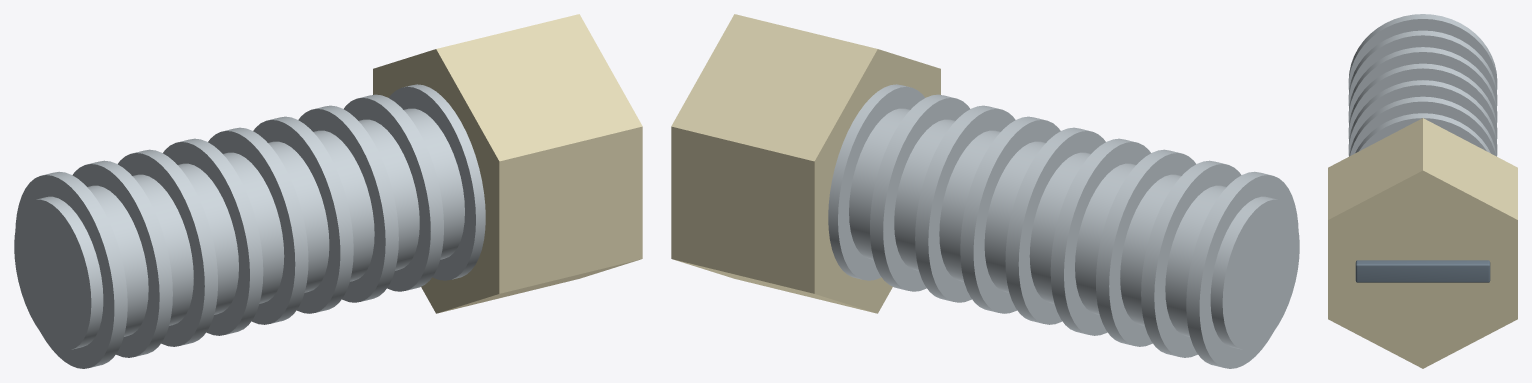
The model's file is engine_clamp_before.glb.
The picture shows the model from 3 angles, left to right: view 1: azimuth 30°, elevation 25°; view 2: azimuth 150°, elevation 25°; view 3: azimuth 270°, elevation 25°; orthographic projection. The views are drawn at different scales.
Visible parts, largest first — view 1: CLAMP/0010_hex_head, CLAMP/0000_threaded_shank, CLAMP/0001_thread, CLAMP/0006_thread, CLAMP/0008_thread, CLAMP/0007_thread, CLAMP/0003_thread, CLAMP/0004_thread, CLAMP/0005_thread, CLAMP/0002_thread, CLAMP/0009_thread; view 2: CLAMP/0010_hex_head, CLAMP/0000_threaded_shank, CLAMP/0001_thread, CLAMP/0006_thread, CLAMP/0008_thread, CLAMP/0007_thread, CLAMP/0003_thread, CLAMP/0004_thread, CLAMP/0005_thread, CLAMP/0002_thread, CLAMP/0009_thread; view 3: CLAMP/0010_hex_head, CLAMP/0011_driver_slot, CLAMP/0005_thread, CLAMP/0001_thread, CLAMP/0002_thread, CLAMP/0003_thread, CLAMP/0004_thread, CLAMP/0006_thread, CLAMP/0007_thread.
Boxes of the visible parts, <box> form: CLAMP/0010_hex_head: <box>373,14,642,313</box>; CLAMP/0000_threaded_shank: <box>14,108,464,350</box>; CLAMP/0001_thread: <box>15,171,127,368</box>; CLAMP/0006_thread: <box>253,116,353,313</box>; CLAMP/0008_thread: <box>344,94,443,291</box>; CLAMP/0007_thread: <box>298,105,398,302</box>; CLAMP/0003_thread: <box>118,149,217,346</box>; CLAMP/0004_thread: <box>163,138,263,335</box>; CLAMP/0005_thread: <box>208,127,308,324</box>; CLAMP/0002_thread: <box>72,160,172,357</box>; CLAMP/0009_thread: <box>389,84,485,280</box>; CLAMP/0010_hex_head: <box>671,14,940,313</box>; CLAMP/0000_threaded_shank: <box>849,108,1299,350</box>; CLAMP/0001_thread: <box>1186,171,1298,368</box>; CLAMP/0006_thread: <box>960,116,1060,313</box>; CLAMP/0008_thread: <box>870,94,969,291</box>; CLAMP/0007_thread: <box>915,105,1015,302</box>; CLAMP/0003_thread: <box>1096,149,1195,346</box>; CLAMP/0004_thread: <box>1050,138,1150,335</box>; CLAMP/0005_thread: <box>1005,127,1105,324</box>; CLAMP/0002_thread: <box>1141,160,1241,357</box>; CLAMP/0009_thread: <box>828,84,924,280</box>; CLAMP/0010_hex_head: <box>1328,118,1517,368</box>; CLAMP/0011_driver_slot: <box>1355,260,1490,282</box>; CLAMP/0005_thread: <box>1348,80,1497,155</box>; CLAMP/0001_thread: <box>1348,14,1497,89</box>; CLAMP/0002_thread: <box>1348,30,1497,106</box>; CLAMP/0003_thread: <box>1348,47,1497,122</box>; CLAMP/0004_thread: <box>1348,63,1497,139</box>; CLAMP/0006_thread: <box>1349,96,1496,156</box>; CLAMP/0007_thread: <box>1355,113,1490,152</box>.
Bounding box in the file's own units: 0.0406 × 0.0191 × 0.0165.
